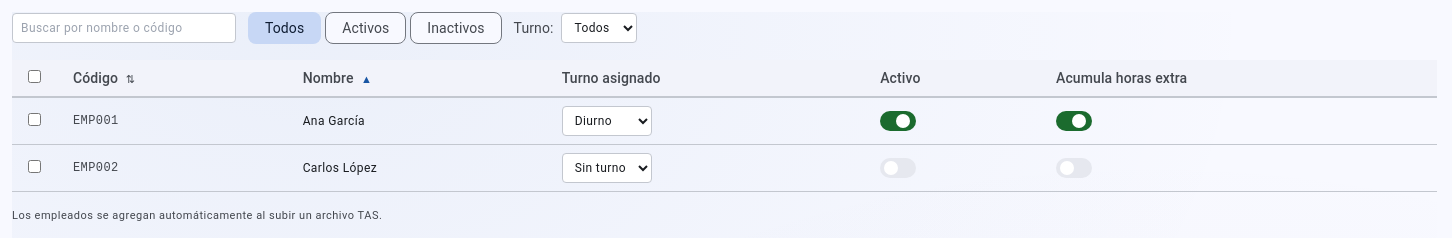
Test: EmployeesTab filtering › filters by search text (code)
Expected: the text "EMP001" is shown, [57, 97, 287, 144]
In the field named "buscar empleado": x=124, y=28 [12, 13, 236, 43], type "EMP002"
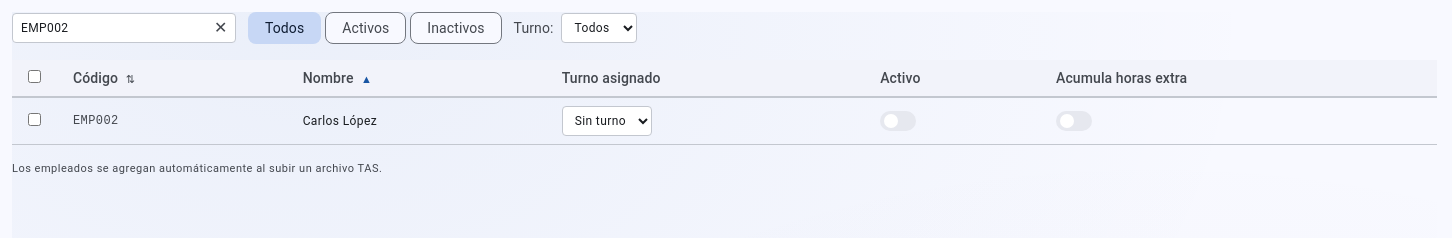
Expected: the text "Carlos López" is shown, [287, 97, 546, 144]
Result: the text "Ana García" is gone
